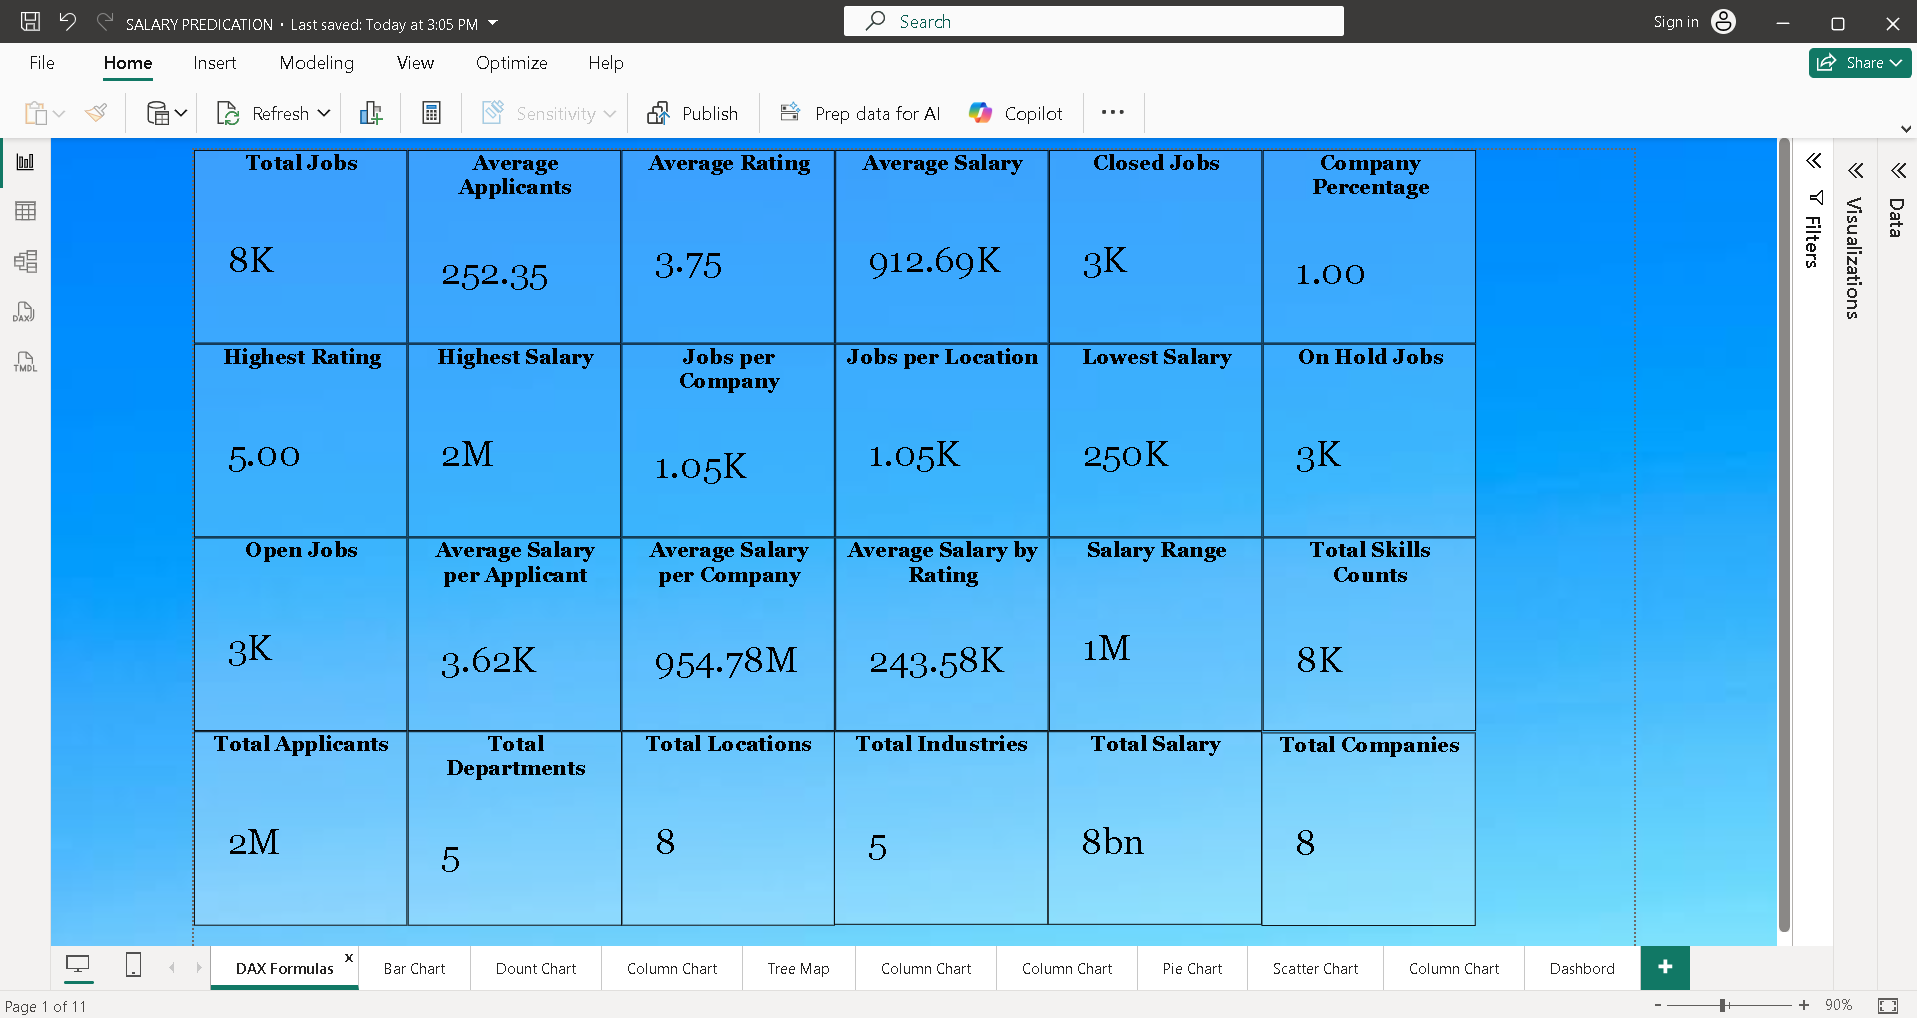

The page's visual inventory and layout, read from the dashboard file:
{"tool":"powerbi","page":{"name":"DAX Formulas","canvas":[1280,720],"ordinal":0},"visuals":[{"type":"cardVisual","title":"Total Jobs","fields":{"Data":["clean_job_market_salary_fixed.Total Jobs"]},"box":[0,0,189.9,172.1],"z":0},{"type":"cardVisual","title":"Highest Rating","fields":{"Data":["clean_job_market_salary_fixed.Highest Rating"]},"box":[0,172.1,189.9,172.1],"z":1000},{"type":"cardVisual","title":"Average Applicants","fields":{"Data":["clean_job_market_salary_fixed.Average Applicants"]},"box":[189.9,0,189.9,172.1],"z":2000},{"type":"cardVisual","title":"Open Jobs","fields":{"Data":["clean_job_market_salary_fixed.Open Jobs"]},"box":[0,344.2,189.9,172.1],"z":3000},{"type":"cardVisual","title":"Average Rating","fields":{"Data":["clean_job_market_salary_fixed.Average Rating"]},"box":[379.9,0,189.9,172.1],"z":4000},{"type":"cardVisual","title":"Highest Salary","fields":{"Data":["clean_job_market_salary_fixed.Highest Salary"]},"box":[189.9,172.1,189.9,172.1],"z":5000},{"type":"cardVisual","title":"Total Applicants","fields":{"Data":["clean_job_market_salary_fixed.Total Applicants"]},"box":[0,516.1,189.5,172.8],"z":6000},{"type":"cardVisual","title":"Average Salary","fields":{"Data":["clean_job_market_salary_fixed.Average Salary"]},"box":[569.8,0,189.9,172.1],"z":7000},{"type":"cardVisual","title":"Closed Jobs","fields":{"Data":["clean_job_market_salary_fixed.Closed Jobs"]},"box":[759.7,0,189.9,172.1],"z":8000},{"type":"cardVisual","title":"Company Percentage","fields":{"Data":["clean_job_market_salary_fixed.Company Percentage"]},"box":[949.7,0,189.9,172.1],"z":9000},{"type":"cardVisual","title":"Jobs per Company","fields":{"Data":["clean_job_market_salary_fixed.Jobs Per Company"]},"box":[379.9,172.1,189.9,172.1],"z":10000},{"type":"cardVisual","title":"Average Salary per Applicant","fields":{"Data":["clean_job_market_salary_fixed.Salary Per Applicant"]},"box":[189.9,344.2,189.9,172.1],"z":11000},{"type":"cardVisual","title":"Total Departments","fields":{"Data":["clean_job_market_salary_fixed.Total Departments"]},"box":[189.5,516.1,190.7,172.8],"z":12000},{"type":"cardVisual","title":"Jobs per Location","fields":{"Data":["clean_job_market_salary_fixed.Jobs Per Location"]},"box":[569.8,172.1,189.9,172.1],"z":13000},{"type":"cardVisual","title":"Lowest Salary","fields":{"Data":["clean_job_market_salary_fixed.Lowest Salary"]},"box":[759.7,172.1,189.9,172.1],"z":14000},{"type":"cardVisual","title":"On Hold Jobs","fields":{"Data":["clean_job_market_salary_fixed.On Hold Jobs"]},"box":[949.7,172.1,189.9,172.1],"z":15000},{"type":"cardVisual","title":"Average Salary per Company","fields":{"Data":["clean_job_market_salary_fixed.Salary Per Company"]},"box":[379.9,344.2,189.9,172.1],"z":16000},{"type":"cardVisual","title":"Average Salary by Rating","fields":{"Data":["clean_job_market_salary_fixed.Salary per Rating"]},"box":[569.8,344.2,189.9,172.1],"z":17000},{"type":"cardVisual","title":"Salary Range","fields":{"Data":["clean_job_market_salary_fixed.Salary Range"]},"box":[759.7,344.2,189.9,172.1],"z":18000},{"type":"cardVisual","title":"Total Skills Counts","fields":{"Data":["clean_job_market_salary_fixed.Skill Count"]},"box":[949.7,344.2,189.9,172.1],"z":19000},{"type":"cardVisual","title":"Total Industries","fields":{"Data":["clean_job_market_salary_fixed.Total Industries"]},"box":[568.6,516.1,190.7,171.7],"z":20000},{"type":"cardVisual","title":"Total Locations","fields":{"Data":["clean_job_market_salary_fixed.Total Locations"]},"box":[380.3,516.1,189.5,172.8],"z":21000},{"type":"cardVisual","title":"Total Salary","fields":{"Data":["clean_job_market_salary_fixed.Total Salary"]},"box":[759.3,516.1,190.7,171.7],"z":22000},{"type":"cardVisual","title":"Total Companies","fields":{"Data":["clean_job_market_salary_fixed.Total Companies"]},"box":[948.9,517.3,190.7,171.7],"z":23000}]}

Visuals, with their boxes on the page's 1280x720 design canvas (x1, y1, x2, y2). These are canvas units, not pixel positions in the 1917x1018 screenshot, which may show the page scaled, cropped or inside an application window:
"Total Jobs" cardVisual: <bbox>0, 0, 190, 172</bbox>
"Highest Rating" cardVisual: <bbox>0, 172, 190, 344</bbox>
"Average Applicants" cardVisual: <bbox>190, 0, 380, 172</bbox>
"Open Jobs" cardVisual: <bbox>0, 344, 190, 516</bbox>
"Average Rating" cardVisual: <bbox>380, 0, 570, 172</bbox>
"Highest Salary" cardVisual: <bbox>190, 172, 380, 344</bbox>
"Total Applicants" cardVisual: <bbox>0, 516, 190, 689</bbox>
"Average Salary" cardVisual: <bbox>570, 0, 760, 172</bbox>
"Closed Jobs" cardVisual: <bbox>760, 0, 950, 172</bbox>
"Company Percentage" cardVisual: <bbox>950, 0, 1140, 172</bbox>
"Jobs per Company" cardVisual: <bbox>380, 172, 570, 344</bbox>
"Average Salary per Applicant" cardVisual: <bbox>190, 344, 380, 516</bbox>
"Total Departments" cardVisual: <bbox>190, 516, 380, 689</bbox>
"Jobs per Location" cardVisual: <bbox>570, 172, 760, 344</bbox>
"Lowest Salary" cardVisual: <bbox>760, 172, 950, 344</bbox>
"On Hold Jobs" cardVisual: <bbox>950, 172, 1140, 344</bbox>
"Average Salary per Company" cardVisual: <bbox>380, 344, 570, 516</bbox>
"Average Salary by Rating" cardVisual: <bbox>570, 344, 760, 516</bbox>
"Salary Range" cardVisual: <bbox>760, 344, 950, 516</bbox>
"Total Skills Counts" cardVisual: <bbox>950, 344, 1140, 516</bbox>
"Total Industries" cardVisual: <bbox>569, 516, 759, 688</bbox>
"Total Locations" cardVisual: <bbox>380, 516, 570, 689</bbox>
"Total Salary" cardVisual: <bbox>759, 516, 950, 688</bbox>
"Total Companies" cardVisual: <bbox>949, 517, 1140, 689</bbox>
